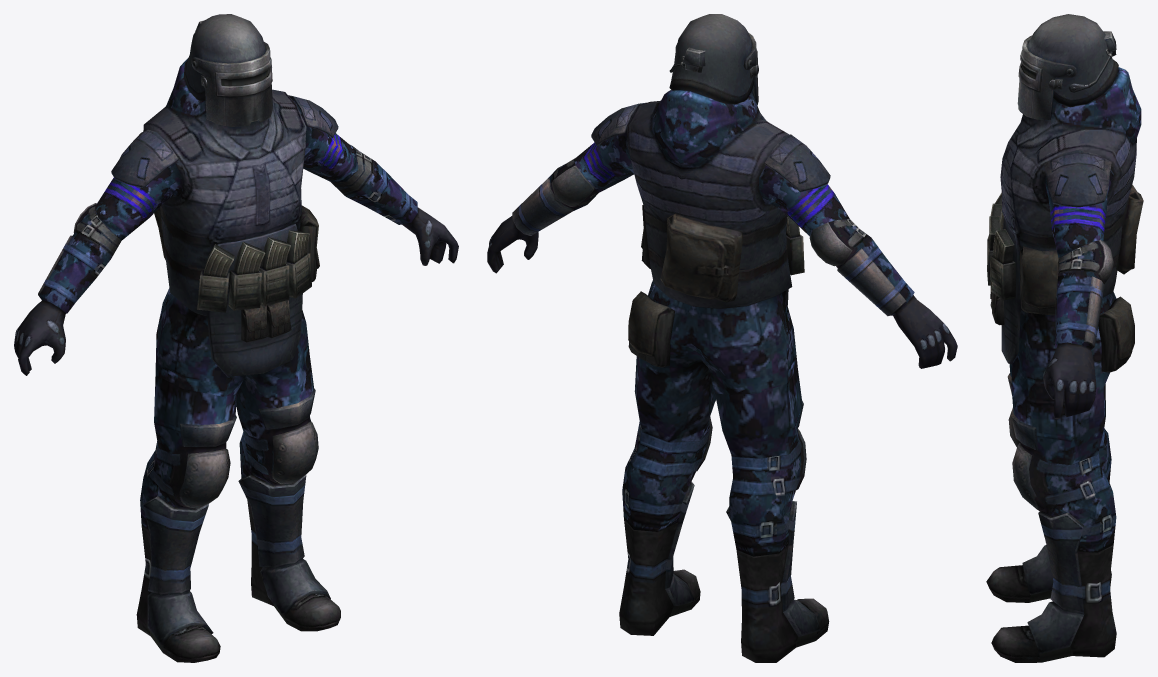
File: Heavy_Asker.fbx
3 views of the same model, side by side, from view 1: azimuth 30°, elevation 25°; view 2: azimuth 150°, elevation 25°; view 3: azimuth 270°, elevation 25° (orthographic). The views are drawn at different scales.
Visible parts, largest first — view 1: Heavy_Asker; view 2: Heavy_Asker; view 3: Heavy_Asker.
Boxes of the visible parts, x1,y1,x2,y2 form: Heavy_Asker: [14, 14, 458, 662]; Heavy_Asker: [487, 14, 957, 662]; Heavy_Asker: [986, 14, 1143, 662].
Bounding box in the file's own units: 142 × 183 × 43.15.
